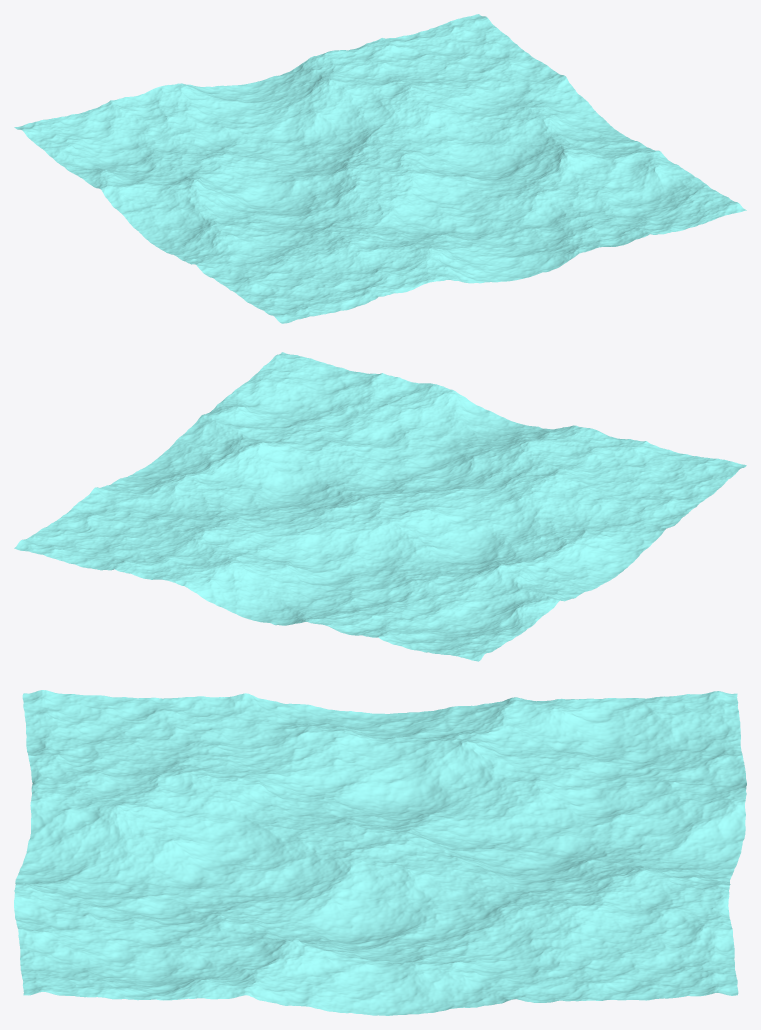
Rendered from water.fbx.
3 views of the same model, one above another, from view 1: azimuth 30°, elevation 25°; view 2: azimuth 150°, elevation 25°; view 3: azimuth 270°, elevation 25° (orthographic). The views are drawn at different scales.
Parts seen in each view (by area): view 1: Plane; view 2: Plane; view 3: Plane.
Part boxes in pixels (x1,y1,x2,y2): Plane: [14, 14, 746, 323]; Plane: [14, 352, 746, 661]; Plane: [14, 690, 746, 1015].
Size of the model in its own units: 5219 by 251 by 5283.
